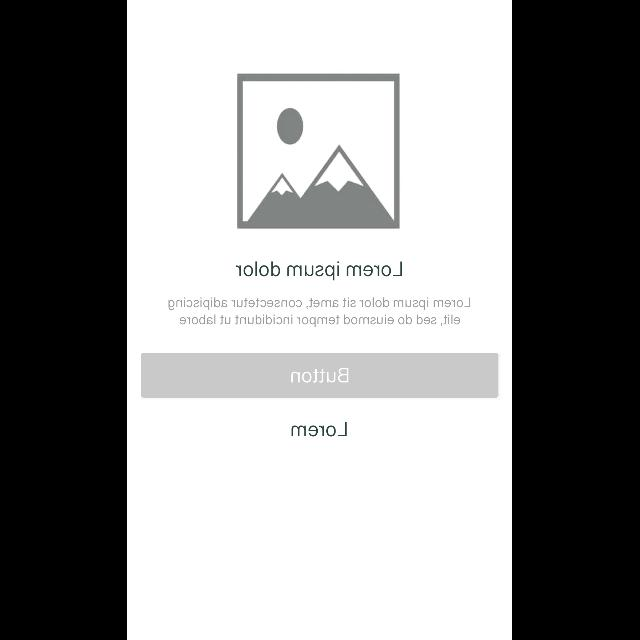image: (237, 73, 401, 229)
text: (169, 297, 471, 327), (236, 262, 402, 280), (292, 422, 348, 436)
textbutton: (141, 352, 499, 398)
